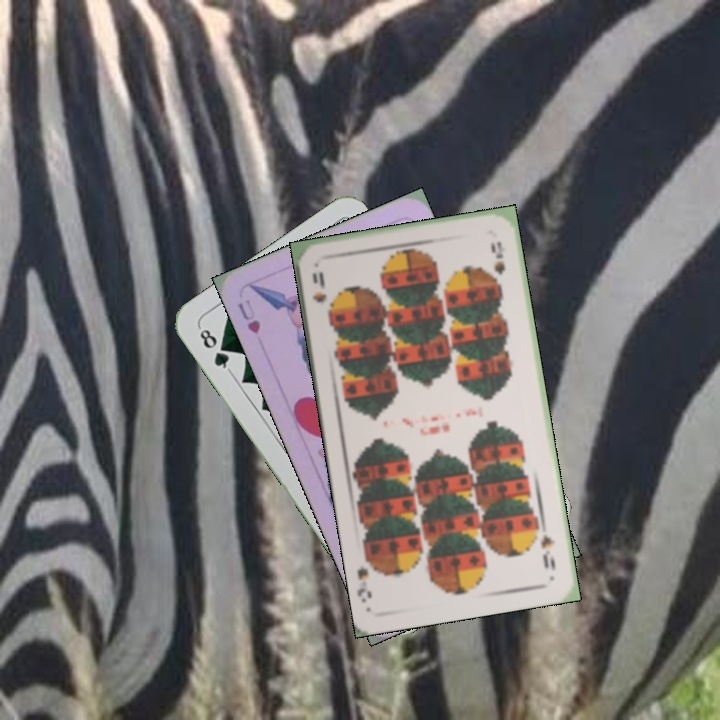G8: (195, 323, 234, 375)
HU: (233, 295, 264, 337)
S9: (308, 268, 335, 321), (536, 529, 558, 573)
